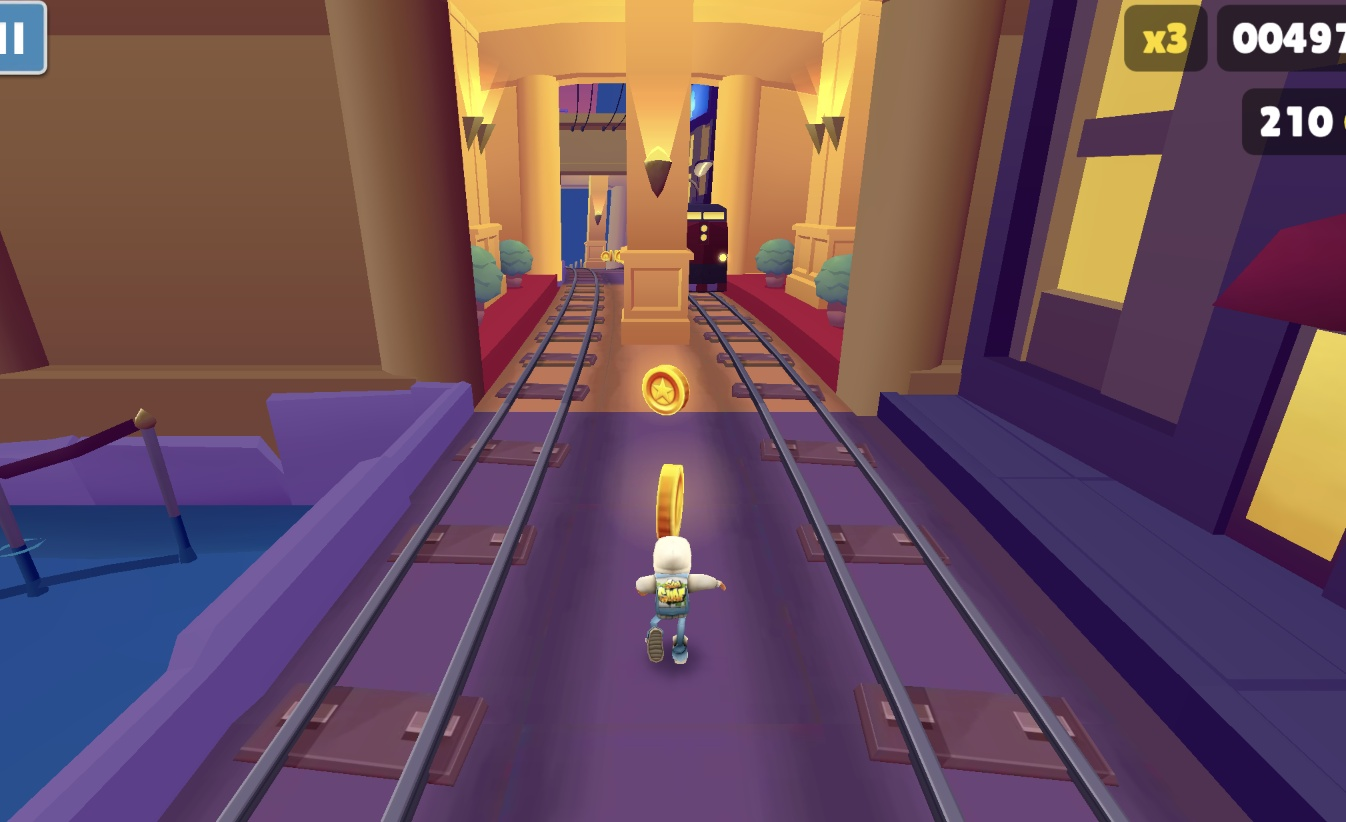pillar: (622, 0, 700, 346), (584, 176, 610, 268)
train: (692, 206, 732, 288)
